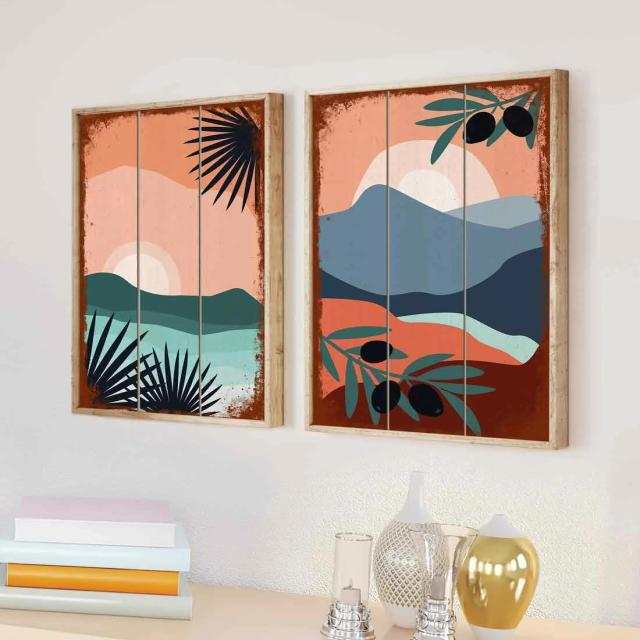painting: (304, 69, 552, 448), (73, 92, 272, 428)
